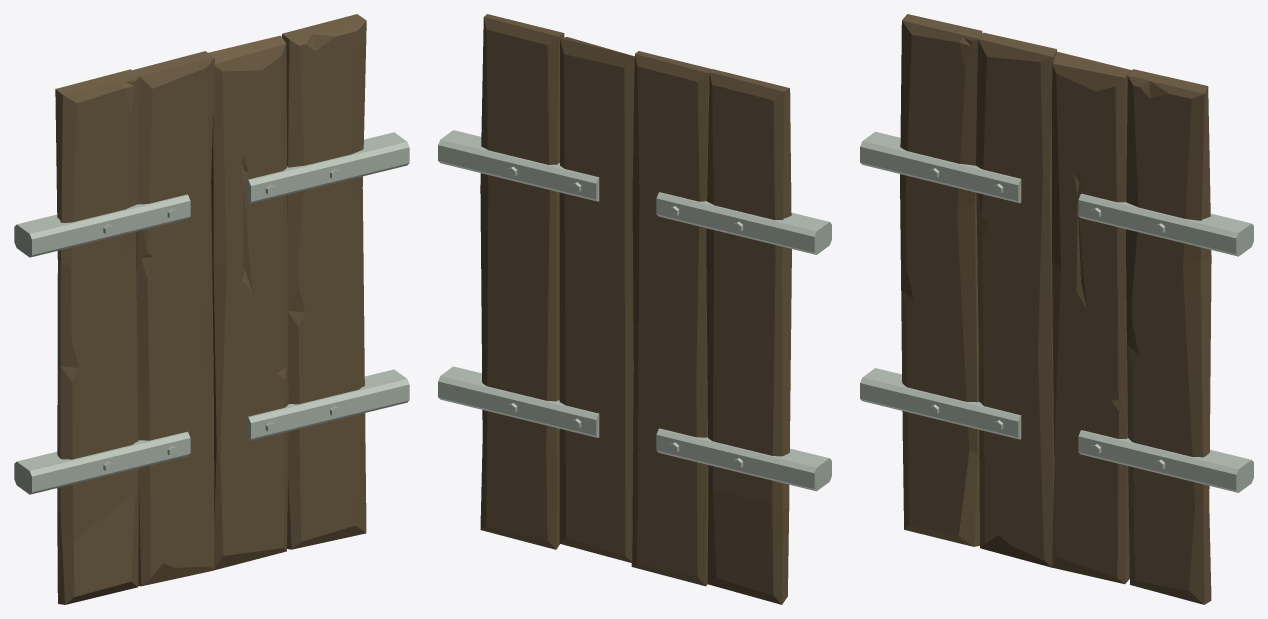
The model's file is greek_window_1.fbx.
3 renders of one model, left to right at view 1: azimuth 30°, elevation 25°; view 2: azimuth 150°, elevation 25°; view 3: azimuth 330°, elevation 25°, orthographic.
Parts seen in each view (by area): view 1: Cube.043, Cube.049; view 2: Cube.043, Cube.049; view 3: Cube.049, Cube.043.
Part boxes in pixels (bbox=[...]): Cube.043: bbox=[14, 51, 214, 604]; Cube.049: bbox=[208, 14, 409, 569]; Cube.043: bbox=[631, 51, 831, 604]; Cube.049: bbox=[438, 14, 634, 562]; Cube.049: bbox=[1051, 51, 1253, 604]; Cube.043: bbox=[860, 14, 1056, 567].
Size of the model in its own units: 100 by 131 by 10.
